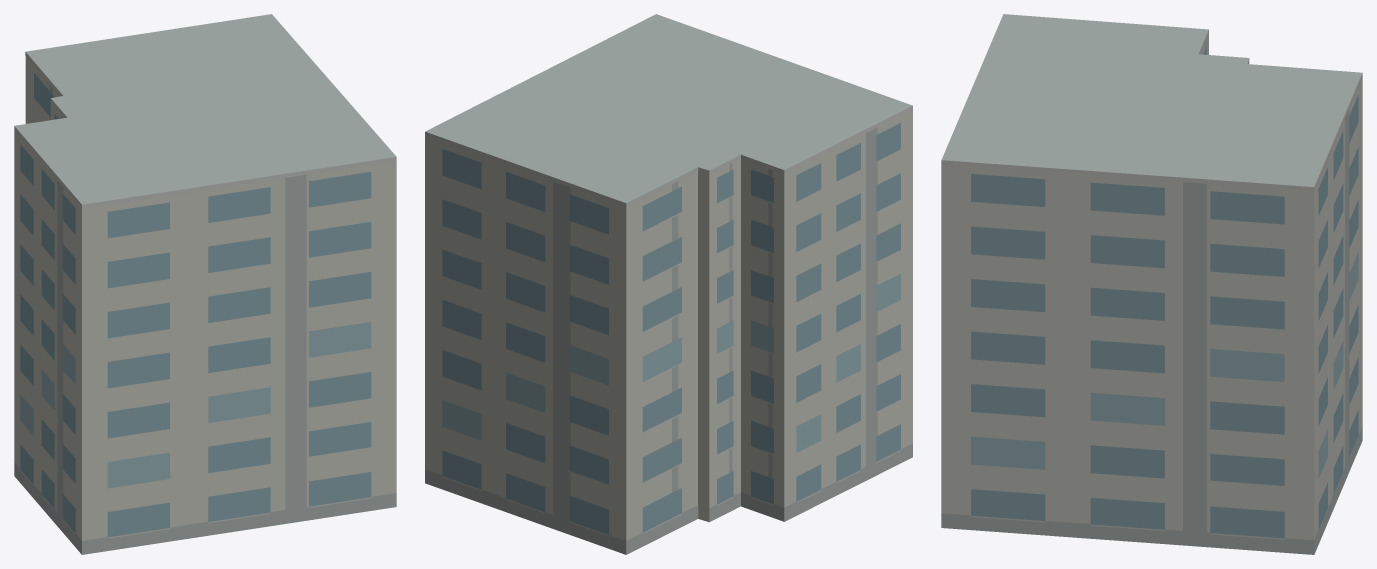
The model's file is survey-upis-32966689.glb.
3 renders of one model, left to right at view 1: azimuth 30°, elevation 25°; view 2: azimuth 150°, elevation 25°; view 3: azimuth 270°, elevation 25°, orthographic. The views are drawn at different scales.
Visible parts, largest first — view 1: survey-upis-32966689.tmp; view 2: survey-upis-32966689.tmp; view 3: survey-upis-32966689.tmp.
Boxes of the visible parts, bbox=[...] form: survey-upis-32966689.tmp: bbox=[14, 14, 396, 554]; survey-upis-32966689.tmp: bbox=[425, 14, 912, 554]; survey-upis-32966689.tmp: bbox=[941, 14, 1362, 554].
Size of the model in its own units: 20.5 by 20.3 by 21.08.
